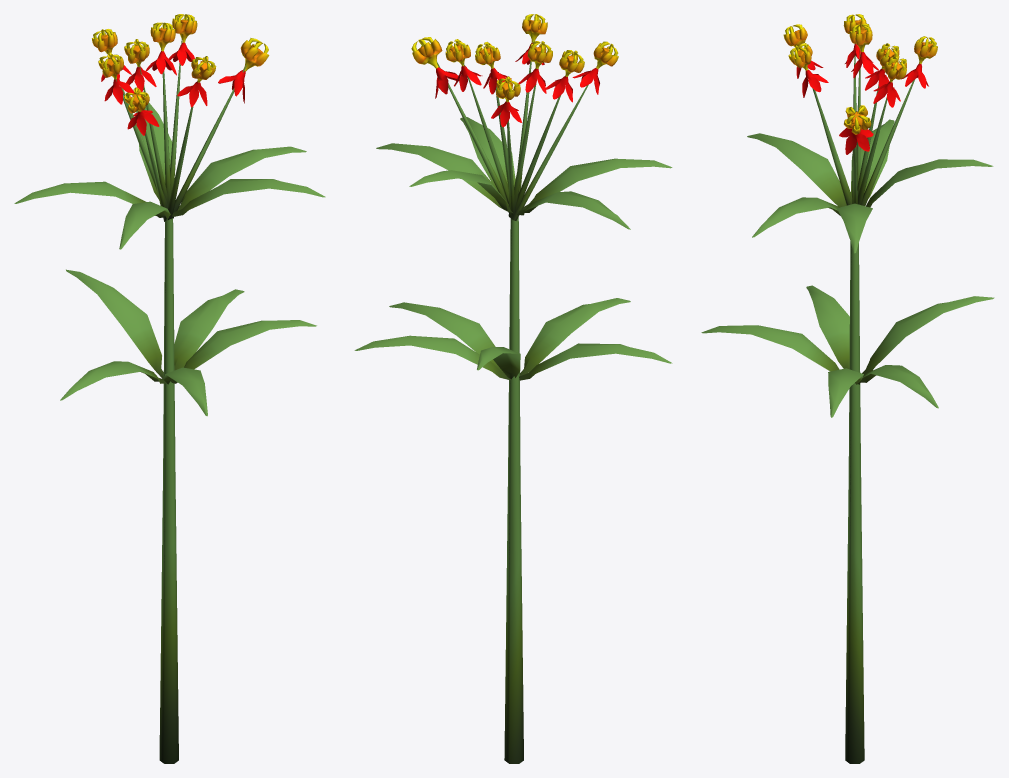
File: Asclepias .fbx
The picture shows the model from 3 angles, left to right: view 1: azimuth 30°, elevation 25°; view 2: azimuth 150°, elevation 25°; view 3: azimuth 270°, elevation 25°; orthographic projection.
Visible parts, largest first — view 1: base stem.012; view 2: base stem.012; view 3: base stem.012.
Boxes of the visible parts, x1,y1,x2,y2 form: base stem.012: [14, 14, 325, 763]; base stem.012: [354, 14, 672, 763]; base stem.012: [701, 14, 994, 763].
Bounding box in the file's own units: 816 × 2063 × 761.
